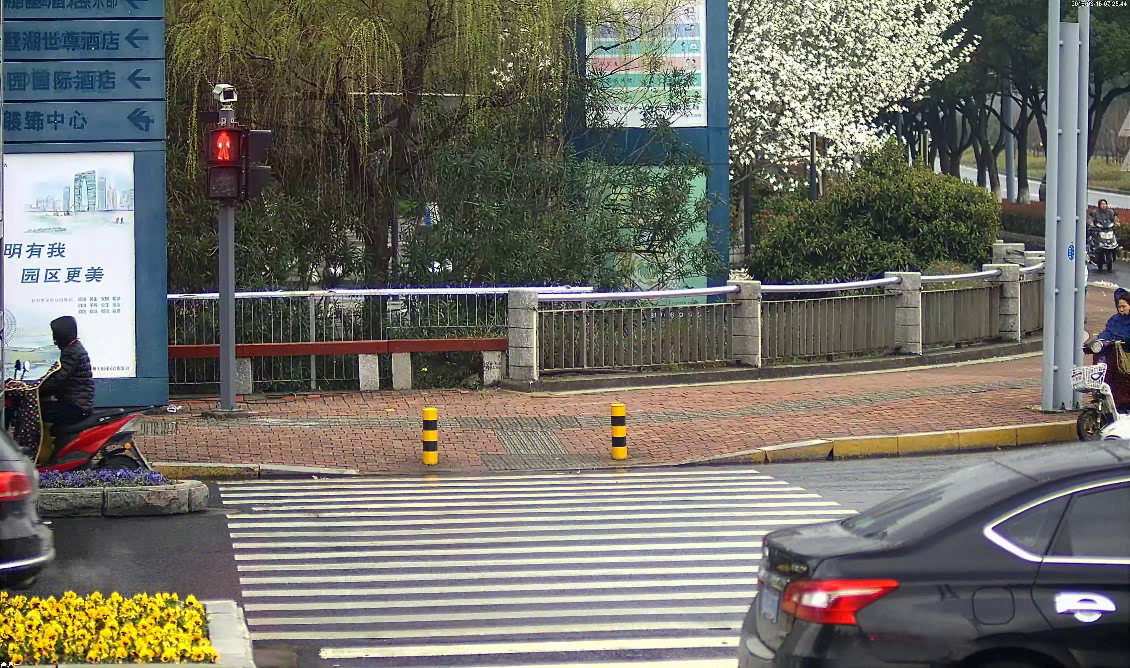person: (25, 313, 110, 471), (1073, 283, 1130, 419), (1082, 197, 1126, 277)
